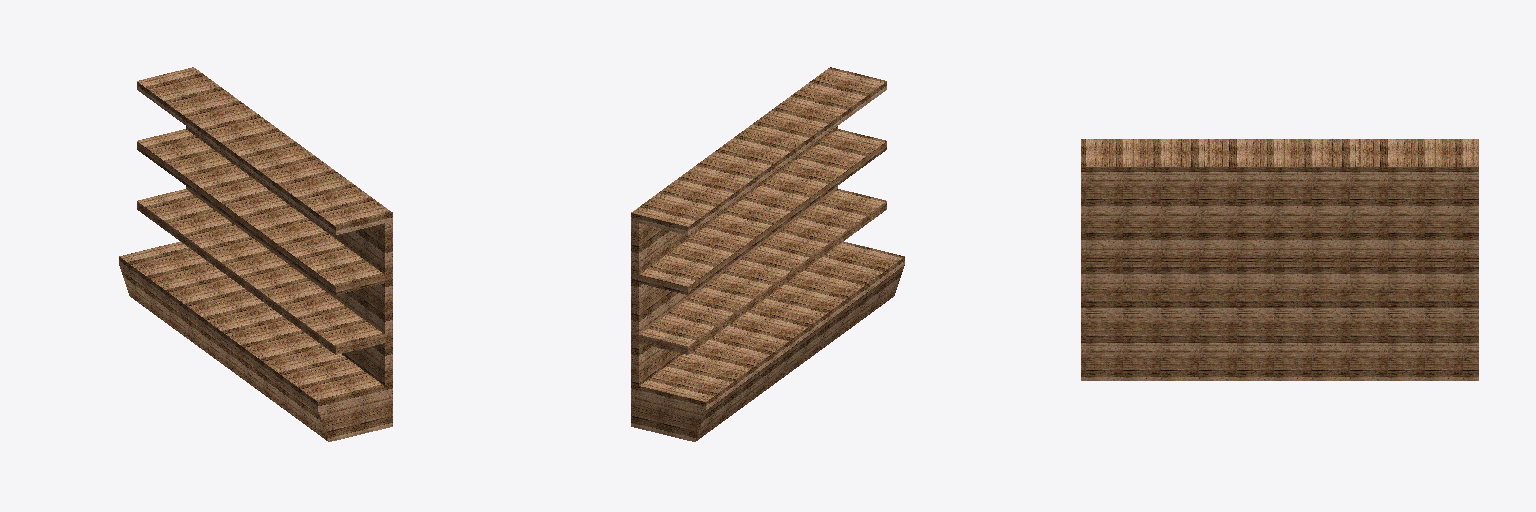
3 views of the same model, side by side, from view 1: azimuth 30°, elevation 25°; view 2: azimuth 150°, elevation 25°; view 3: azimuth 270°, elevation 25° (orthographic).
Parts seen in each view (by area): view 1: shelfObj; view 2: shelfObj; view 3: shelfObj.
Boxes of the visible parts, box(x1,y1,x2,y2) form: shelfObj: box(119, 67, 392, 441); shelfObj: box(631, 67, 904, 441); shelfObj: box(1081, 139, 1478, 380).
Bounding box in the file's own units: 2.29 × 6.25 × 10.55.
Materials: 1 (1 with a texture image).